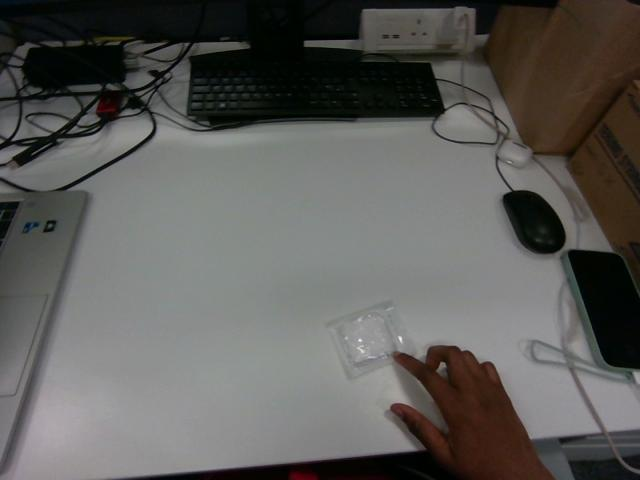gauze: (328, 301, 413, 377)
